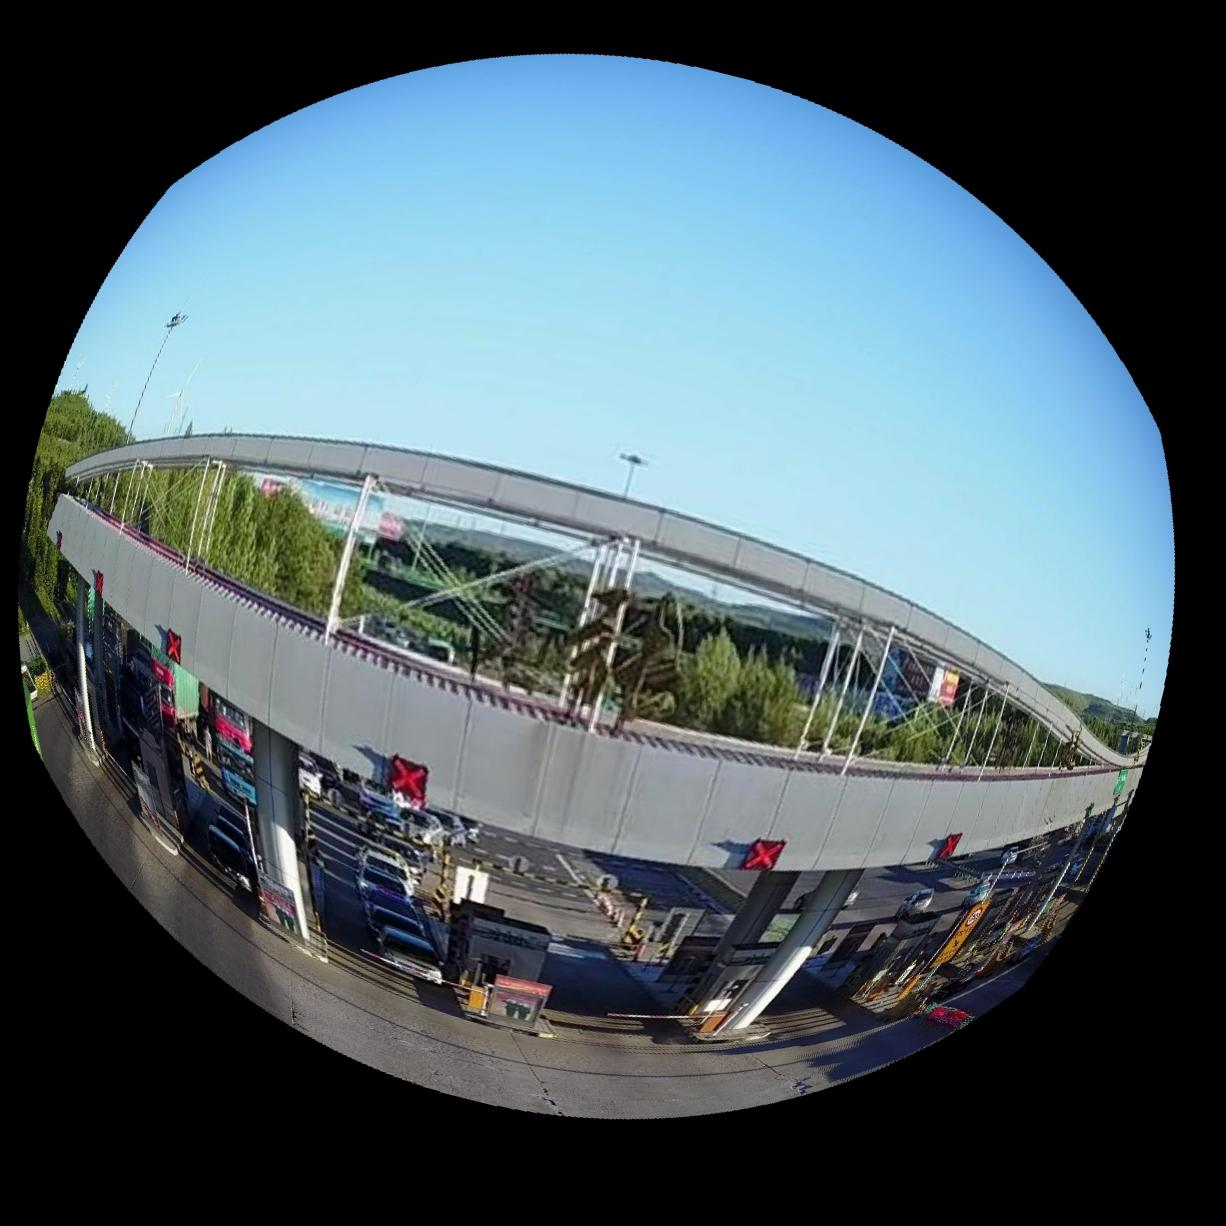building: (29, 434, 1136, 1045)
trees: (20, 390, 342, 616), (673, 629, 804, 747)
